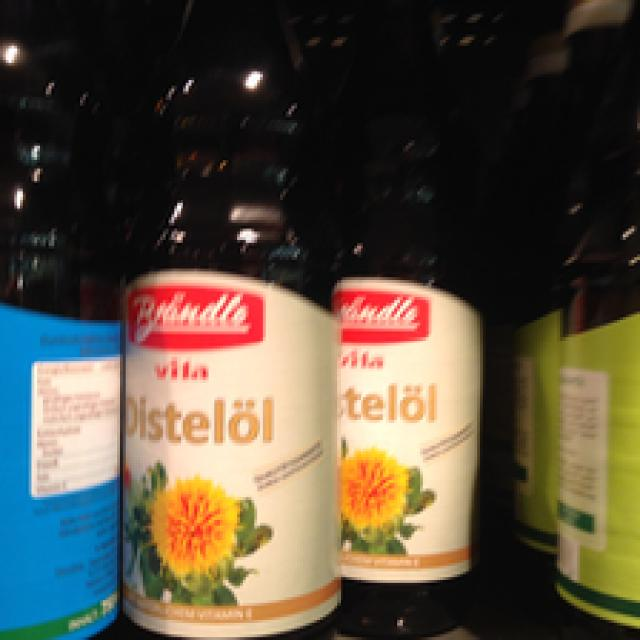groceries: (123, 3, 337, 637), (326, 11, 483, 603)
